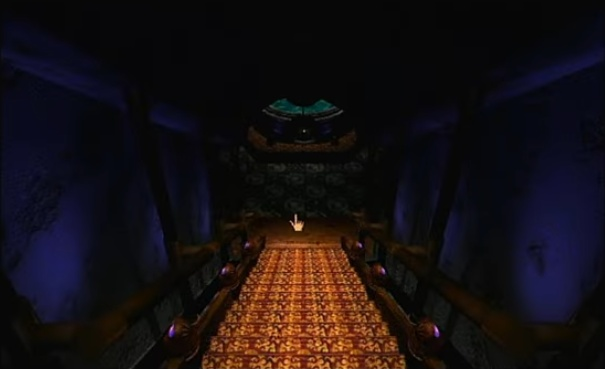Pointer: (287, 211, 308, 233)
